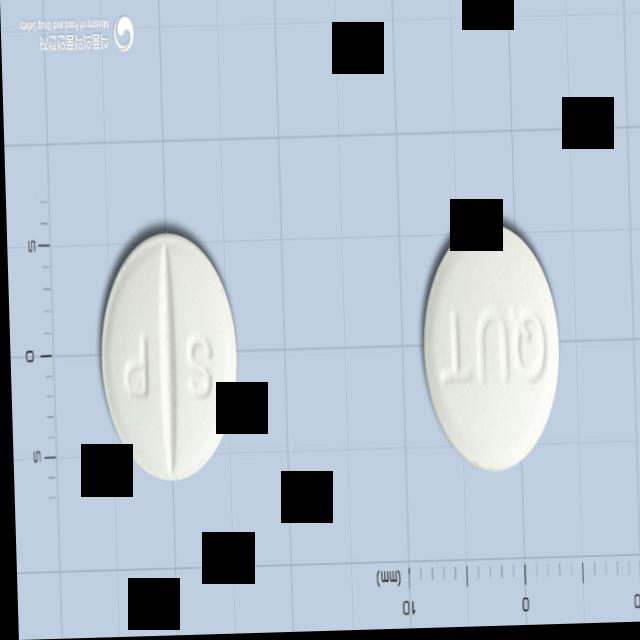Qupron Tab: (95, 228, 238, 486), (416, 224, 561, 478)
